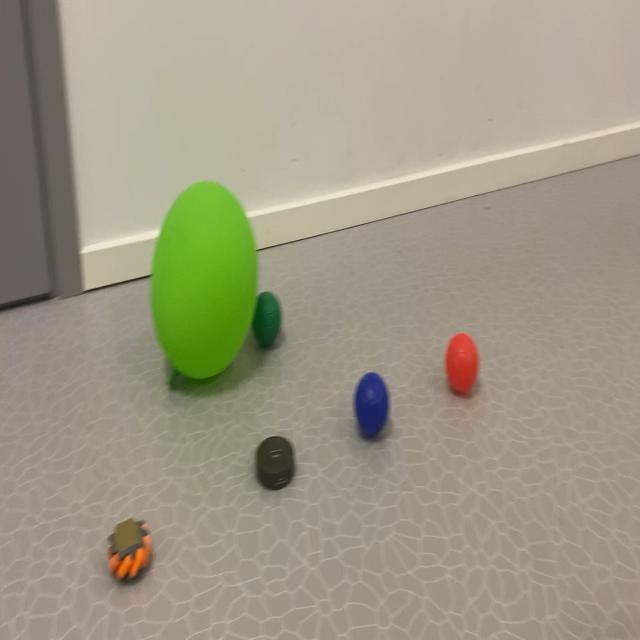blue ball: (350, 370, 394, 447)
green ball: (259, 288, 285, 351)
red ball: (443, 330, 481, 401)
